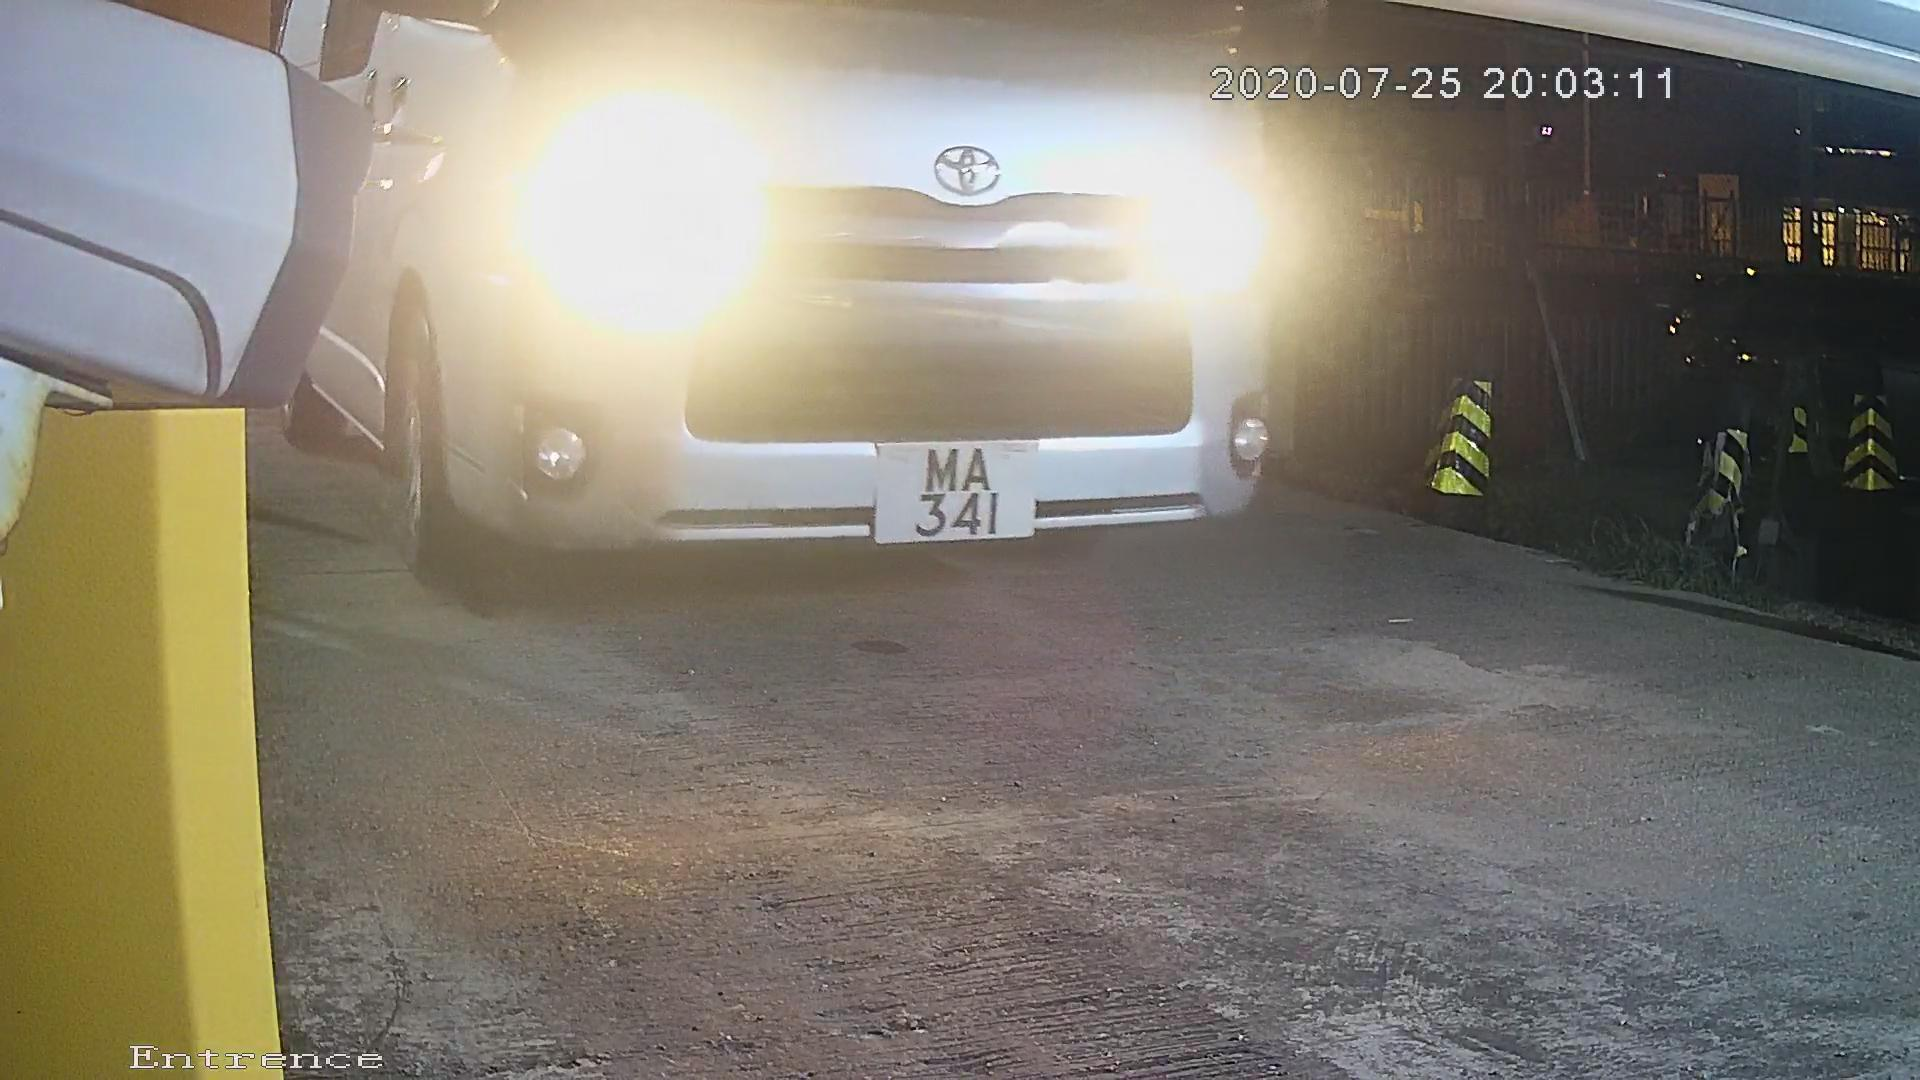privatecar: (248, 1, 1327, 611)
